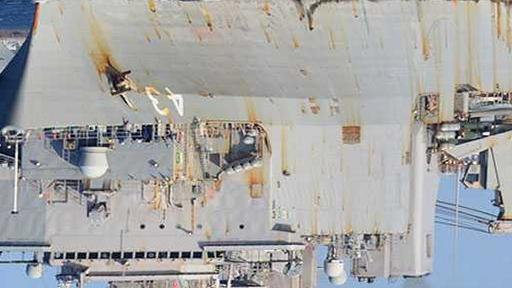rust: (304, 94, 376, 172), (79, 13, 132, 93), (451, 1, 512, 48), (146, 1, 217, 35), (258, 4, 305, 52), (182, 178, 223, 228), (140, 82, 181, 124), (307, 214, 363, 236), (414, 26, 438, 63), (277, 127, 293, 182), (239, 173, 266, 202), (239, 95, 263, 122)
